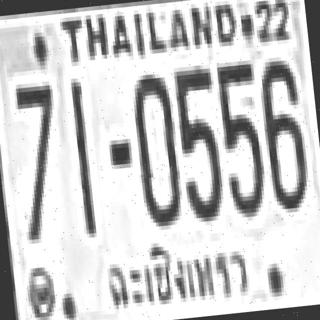N00: (128, 69, 182, 224)
N01: (67, 78, 95, 234), (67, 76, 95, 232)
N05: (213, 56, 266, 214), (171, 65, 222, 219)
N06: (257, 56, 308, 210)
N07: (12, 81, 64, 240), (13, 81, 61, 199)
